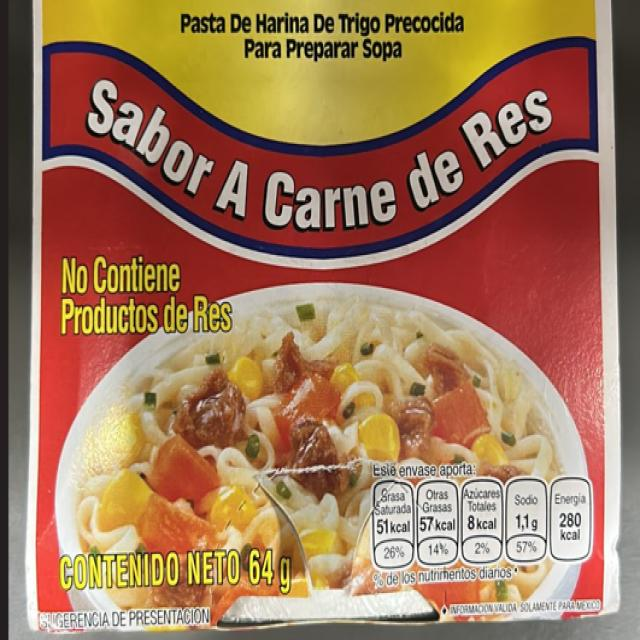maruchanRes: (37, 0, 621, 617)
